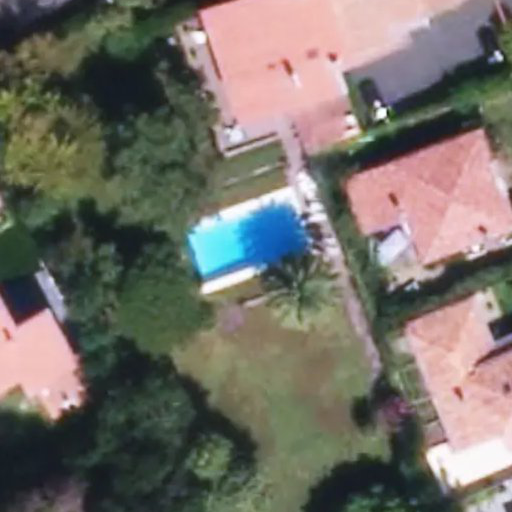pool: (188, 233, 323, 249)
